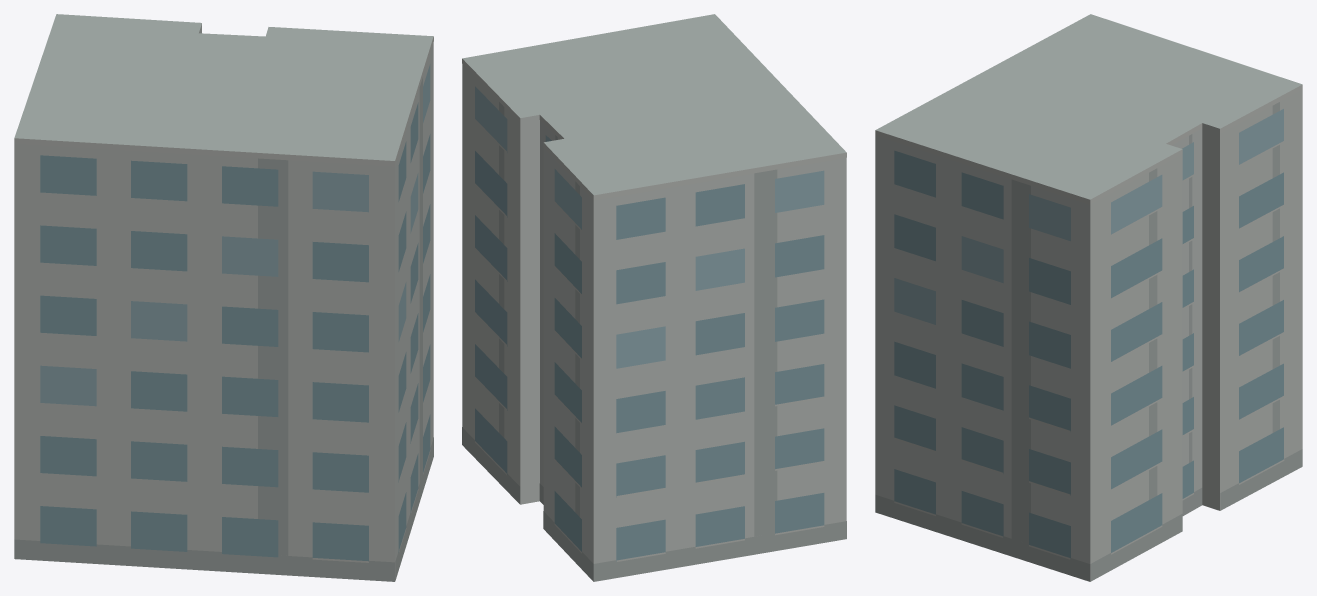
Rendered from survey-upis-32805691.glb.
The picture shows the model from 3 angles, left to right: view 1: azimuth 30°, elevation 25°; view 2: azimuth 150°, elevation 25°; view 3: azimuth 270°, elevation 25°; orthographic projection. The views are drawn at different scales.
Parts seen in each view (by area): view 1: survey-upis-32805691.tmp; view 2: survey-upis-32805691.tmp; view 3: survey-upis-32805691.tmp.
Boxes of the visible parts, x1,y1,x2,y2 form: survey-upis-32805691.tmp: (14,14,433,581); survey-upis-32805691.tmp: (462,14,846,581); survey-upis-32805691.tmp: (875,14,1302,581).
Size of the model in its own units: 19.08 by 18.3 by 18.56.
